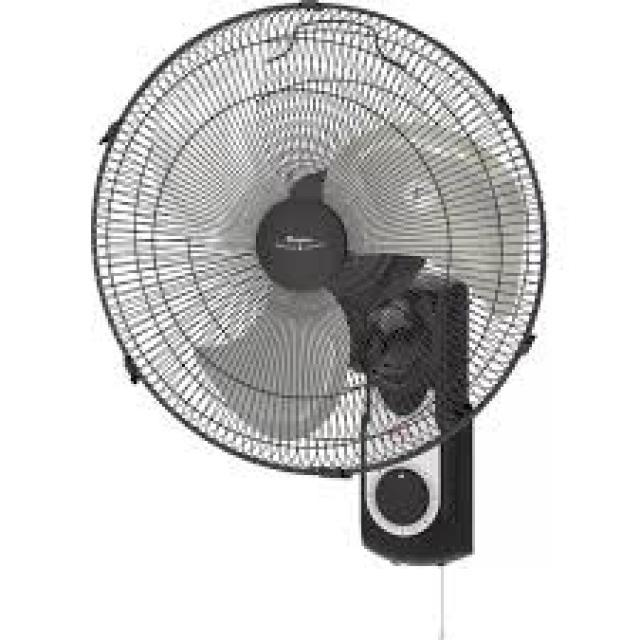fan: (69, 1, 586, 604)
